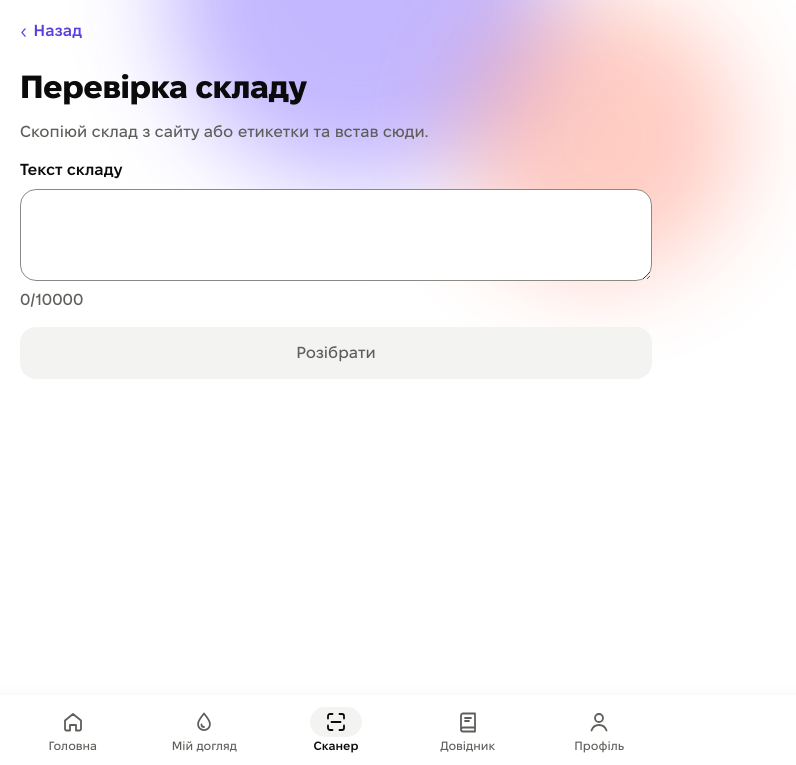
Test case: the scanner: paste, review, check › F4 checked without confirming: "may fit", and the match is shown as possible
Type "Aqua, Niacinamlde, Glycerin, Panthenol, Allantoin, Sodium Hyaluronate" into the text box labelled "Текст складу" at x=336, y=235, box left=20, top=189, right=652, bottom=281
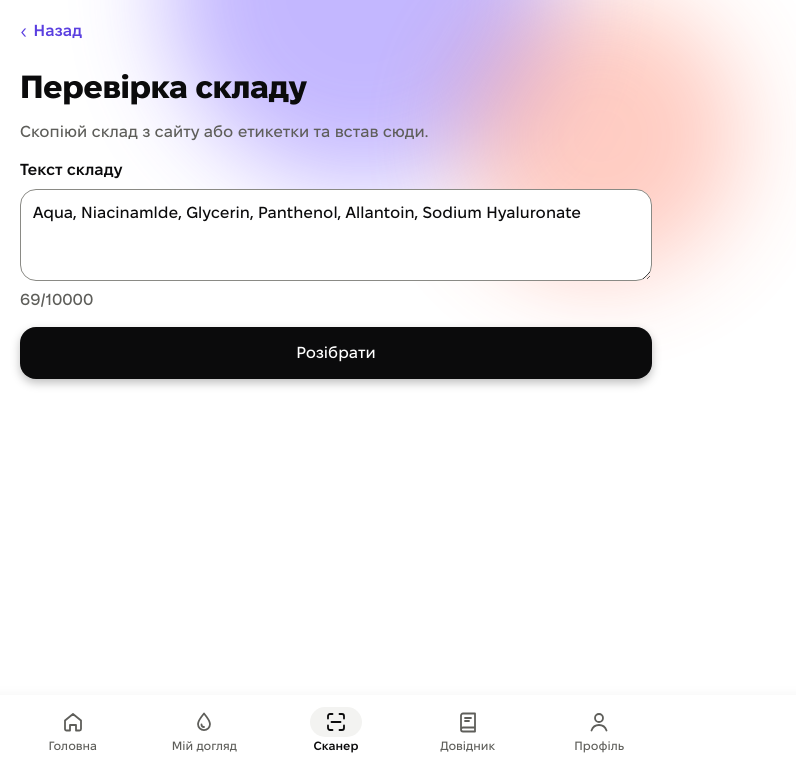
Click the button "Розібрати" at x=336, y=353, box left=20, top=327, right=652, bottom=379
(page scrolled)
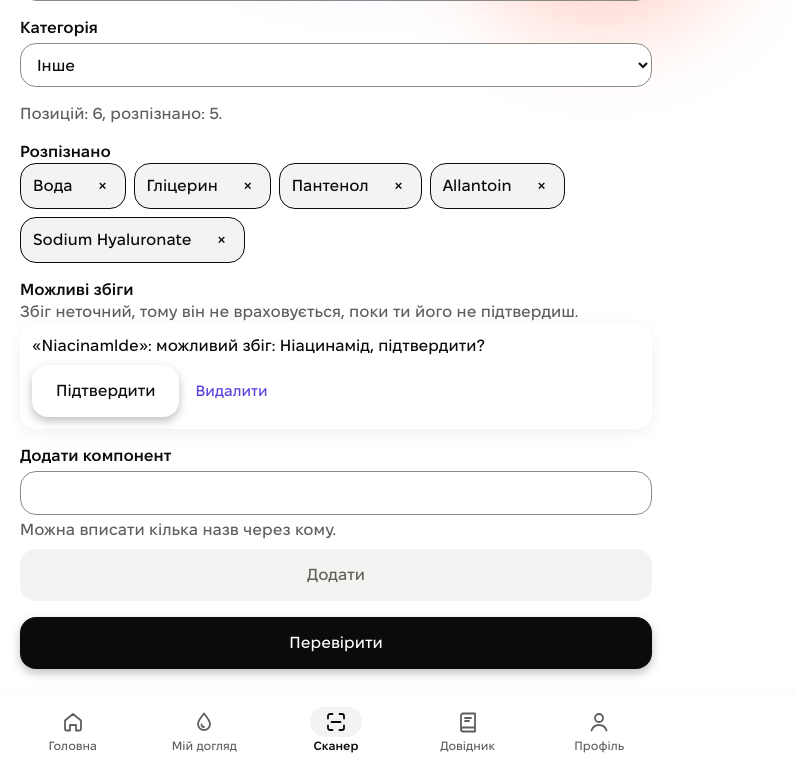
Click the button "Перевірити" at x=336, y=643, box left=20, top=617, right=652, bottom=669
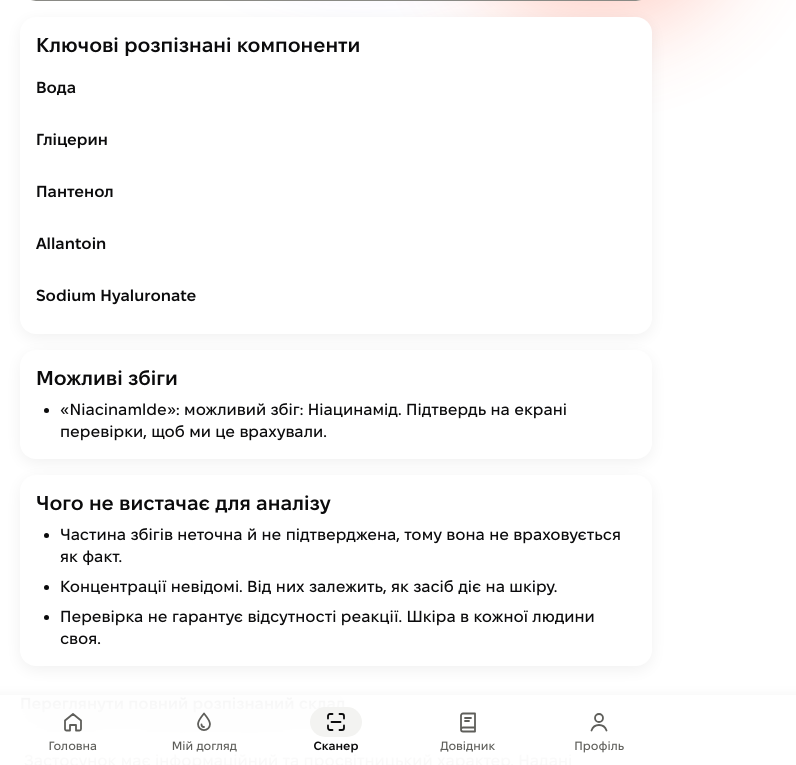
Now the list item "Niacinamlde" is shown, box left=60, top=401, right=567, bottom=440
Now the list item "Частина збігів неточна й не підтверджена, тому вона не враховується як факт." is shown, box left=60, top=524, right=636, bottom=568
